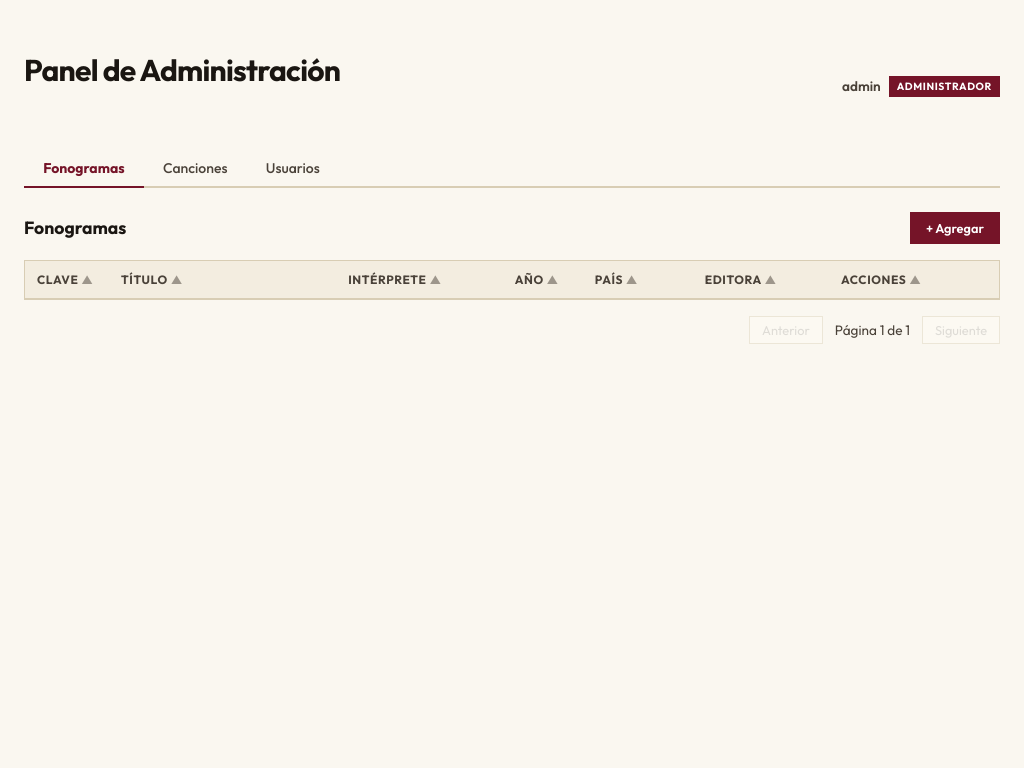
Test: AdminPanel.vue › opens the fonograma form modal on + Agregar click
The width and height of the screenshot is (1024, 768).
Click the button "+ Agregar" at (955,228), box [910,212,1000,244]
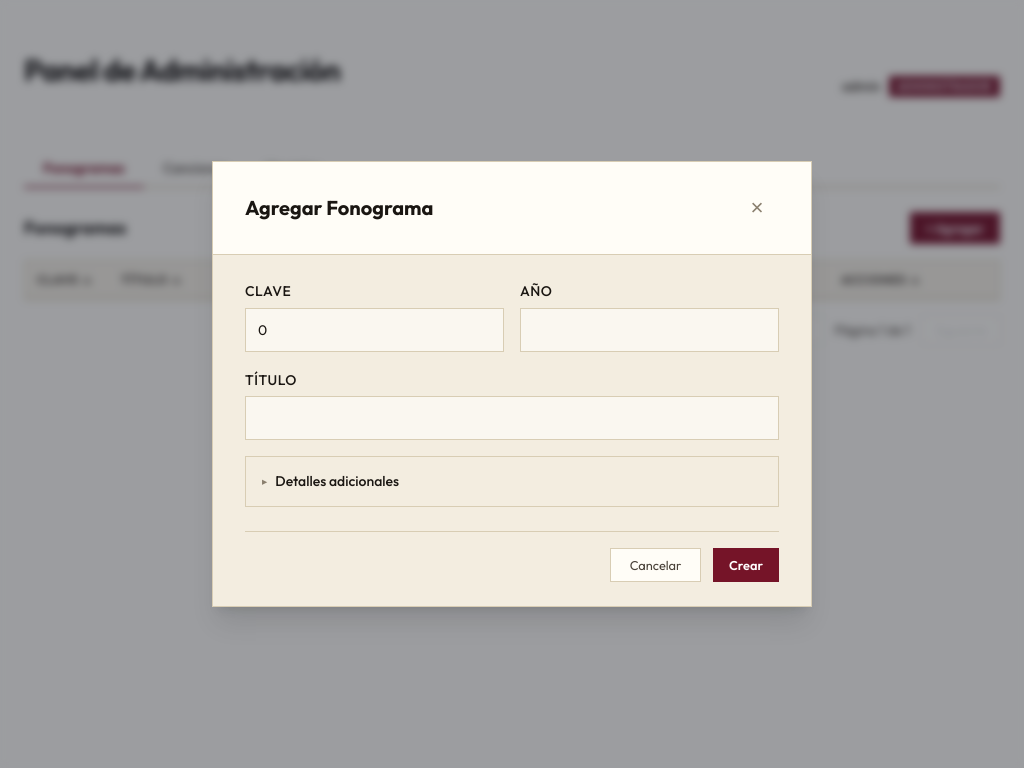
Expected: the element that starts with "Agregar Fonograma" is shown
